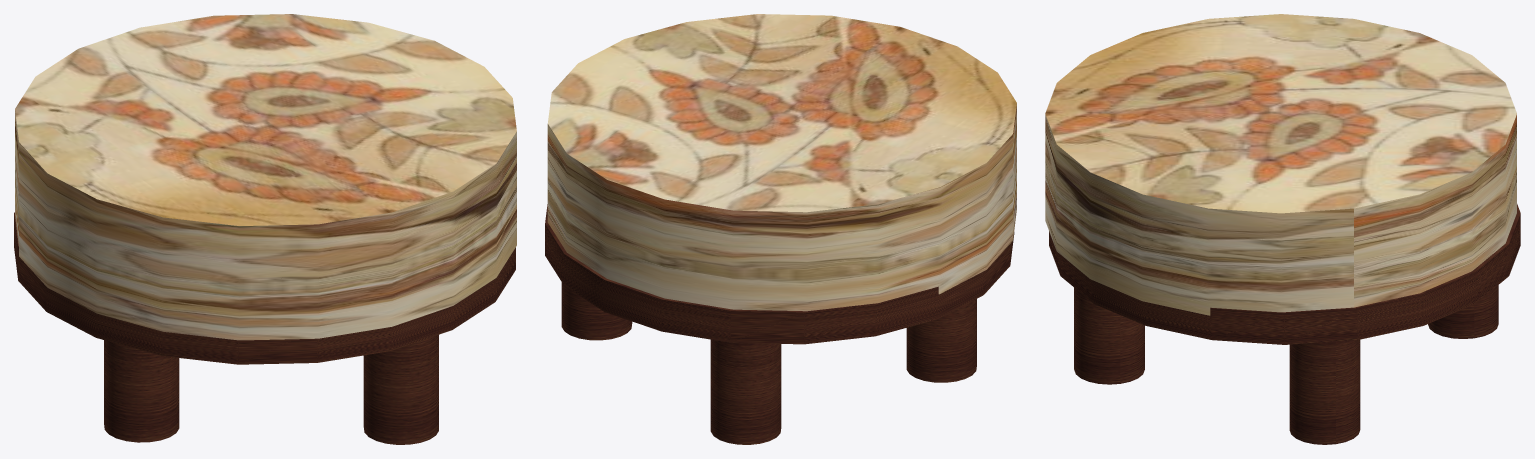
The model's file is Banquito.obj.
3 views of the same model, side by side, from view 1: azimuth 30°, elevation 25°; view 2: azimuth 150°, elevation 25°; view 3: azimuth 270°, elevation 25° (orthographic). The views are drawn at different scales.
Parts seen in each view (by area): view 1: pCylinder1, pCylinder2, pCylinder7, pCylinder5; view 2: pCylinder1, pCylinder2, pCylinder4, pCylinder5, pCylinder3; view 3: pCylinder1, pCylinder2, pCylinder3, pCylinder7, pCylinder4.
Part boxes in pixels (x1,y1,x2,y2): pCylinder1: (15,14,516,340); pCylinder2: (14,212,515,364); pCylinder7: (363,335,438,444); pCylinder5: (104,340,179,442); pCylinder1: (547,14,1016,311); pCylinder2: (545,204,1014,344); pCylinder4: (710,339,781,444); pCylinder5: (906,299,976,382); pCylinder3: (561,282,632,340); pCylinder1: (1045,14,1516,315); pCylinder2: (1049,204,1520,344); pCylinder3: (1289,339,1360,444); pCylinder7: (1074,287,1144,384); pCylinder4: (1428,285,1498,338).
Size of the model in its own units: 4.01 by 2.22 by 4.03.
